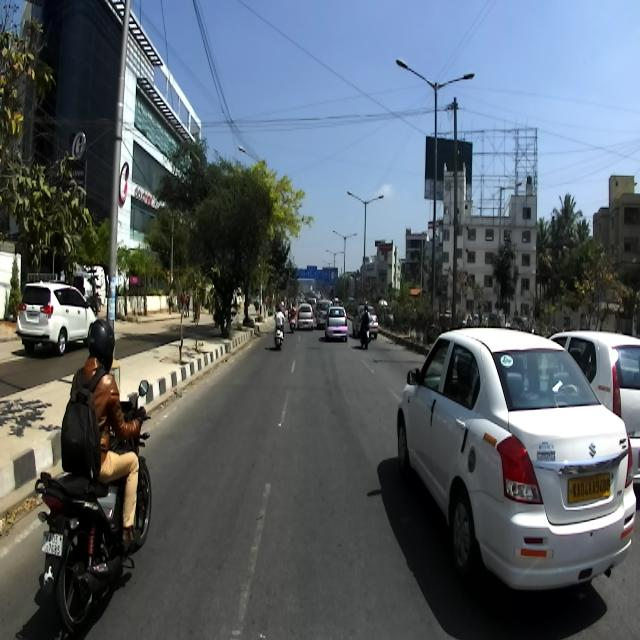car ahead at: (386, 316, 640, 610)
motorcycle ahead at: (35, 452, 152, 627)
